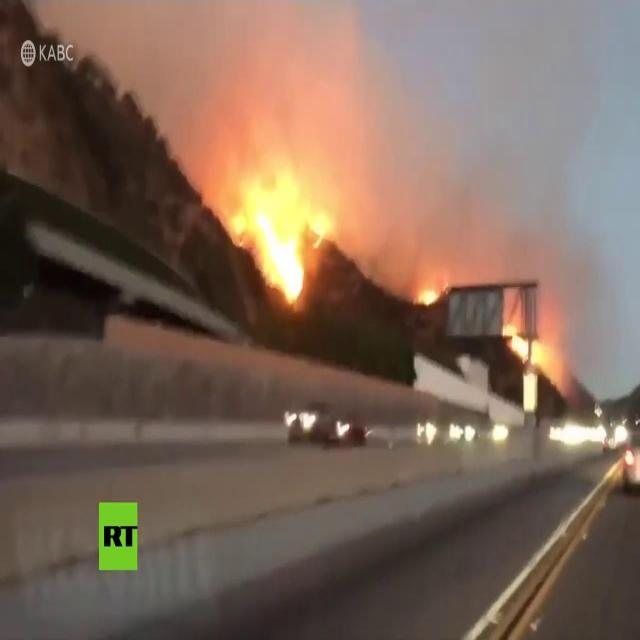Fire: (230, 165, 330, 303), (502, 320, 564, 382), (412, 286, 440, 308)
